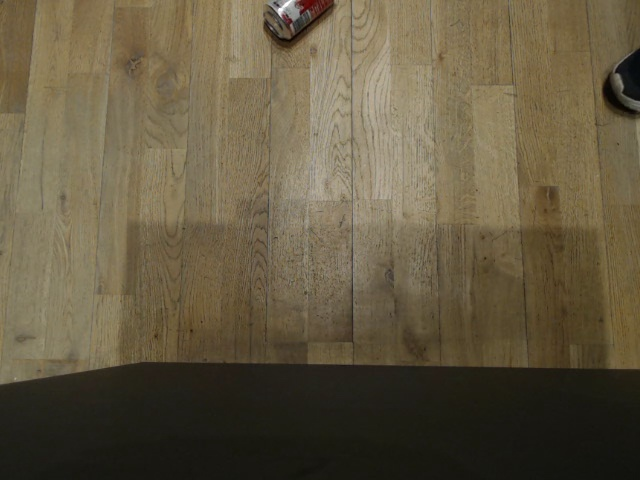cola: (262, 0, 334, 43)
